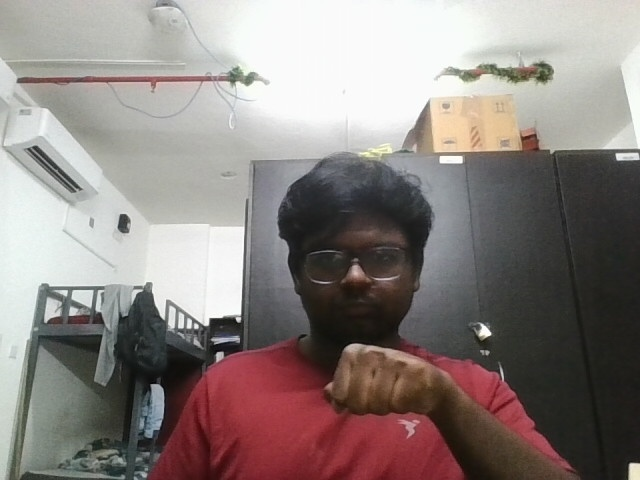Yes: (312, 328, 469, 437)
